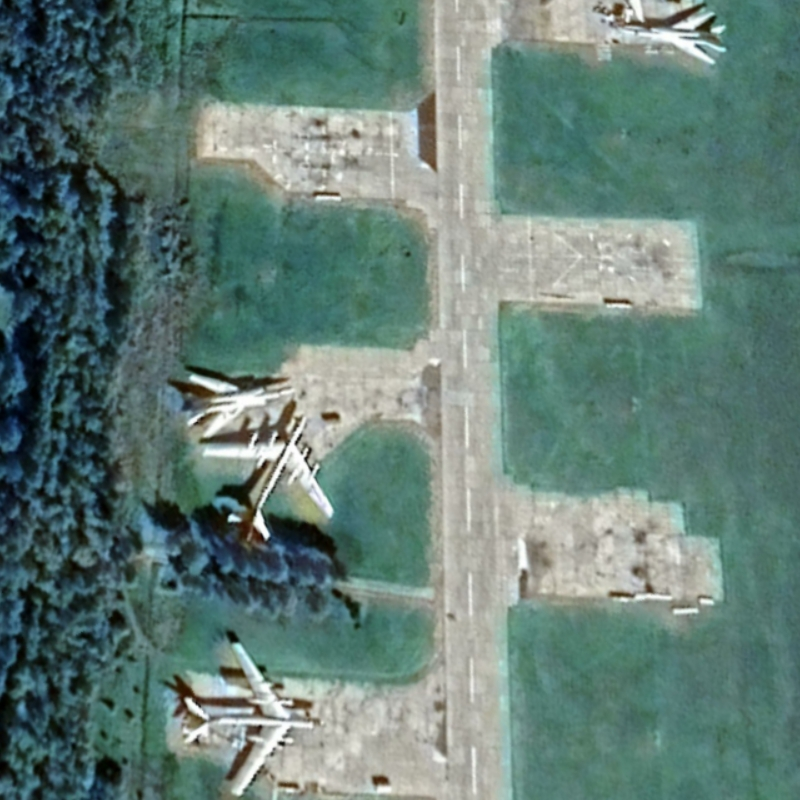A12: (183, 371, 300, 441), (617, 11, 729, 67)
A17: (180, 639, 327, 800), (199, 413, 338, 544)
